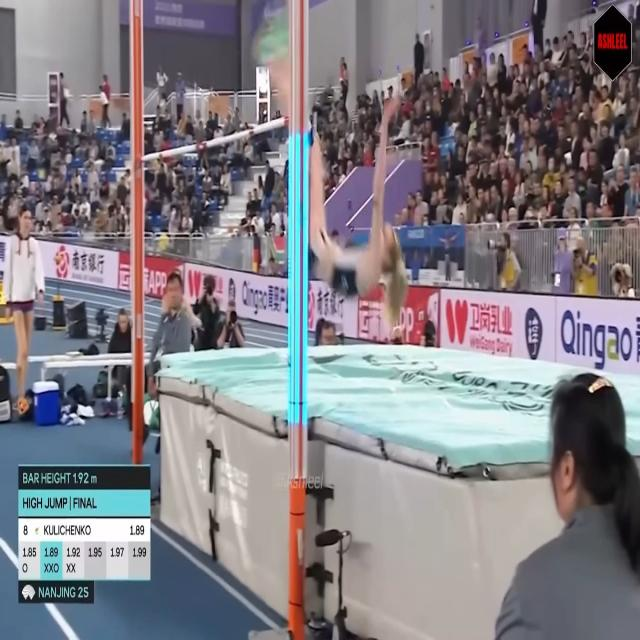land: (263, 12, 405, 296)
